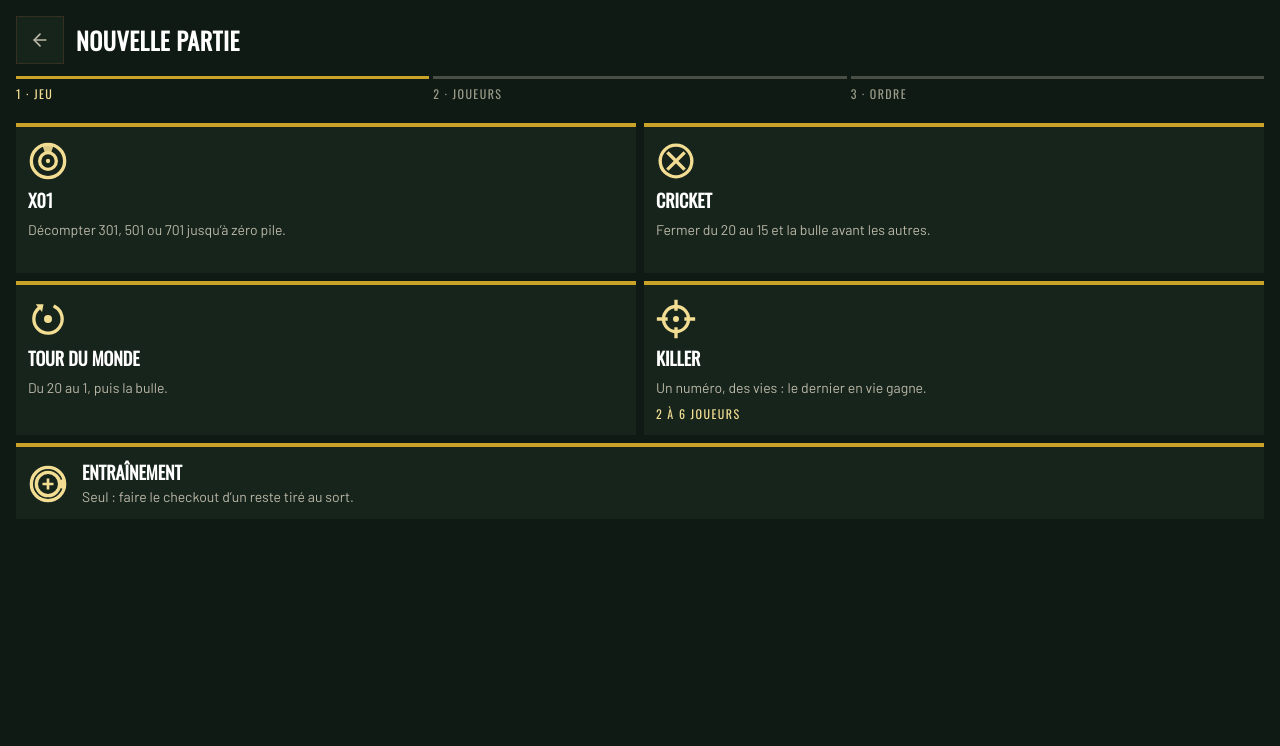
it: Killer — la sélection coupée au changement de jeu › un Killer à 6 puis un X01 : les 5e et 6e sont perdus, même en revenant au Killer
This screenshot has width=1280, height=746.
Click the 4th link named "Killer": (676, 319) top-left (644, 281), bottom-right (1264, 435)
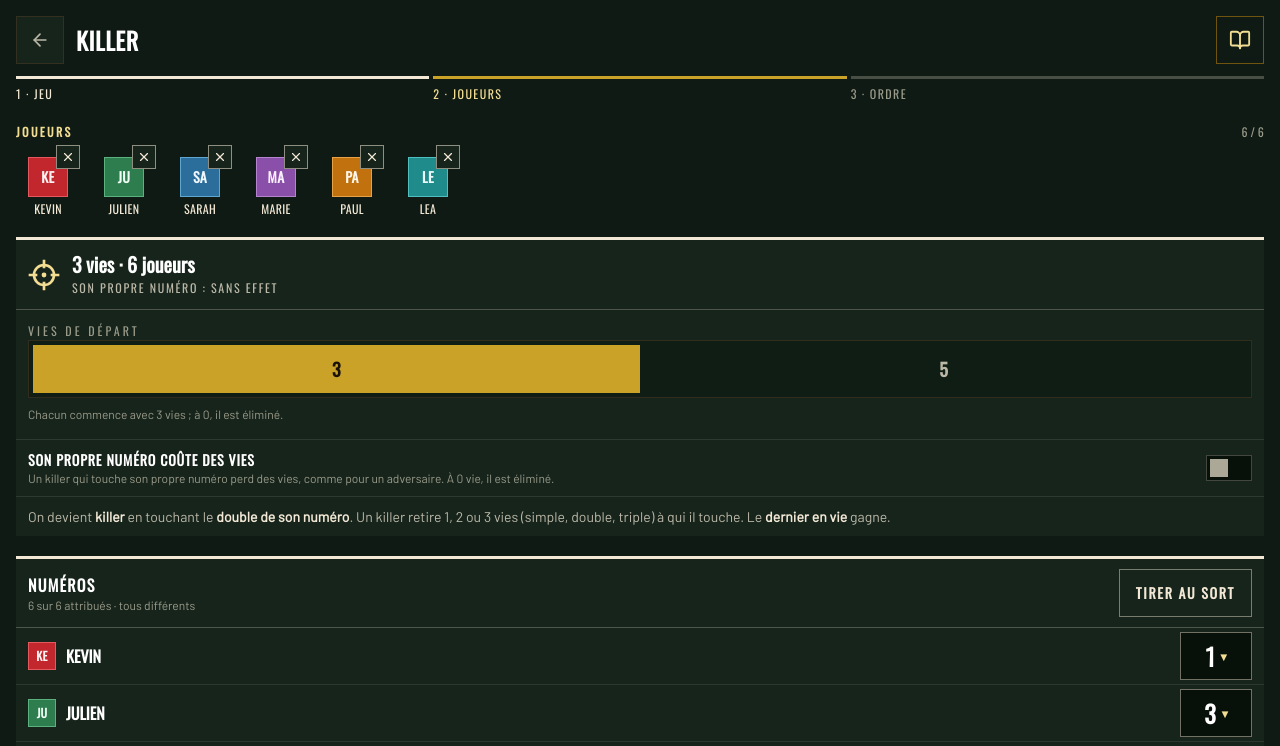
Check: the text "6 / 6" is shown, box top-left (1241, 124), bottom-right (1264, 140)
Click the button named "Étape précédente": (40, 40) top-left (16, 16), bottom-right (64, 64)
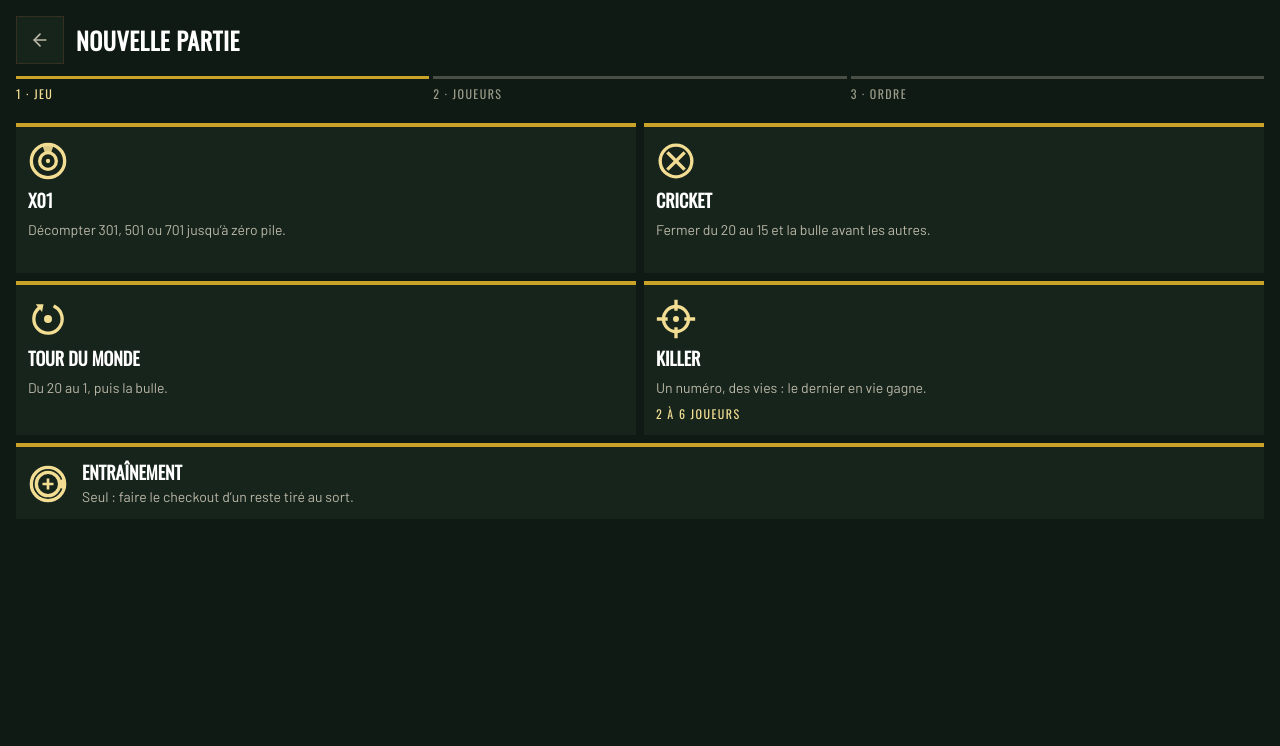
Click the 1st link named "X01": (48, 161) top-left (16, 123), bottom-right (636, 273)
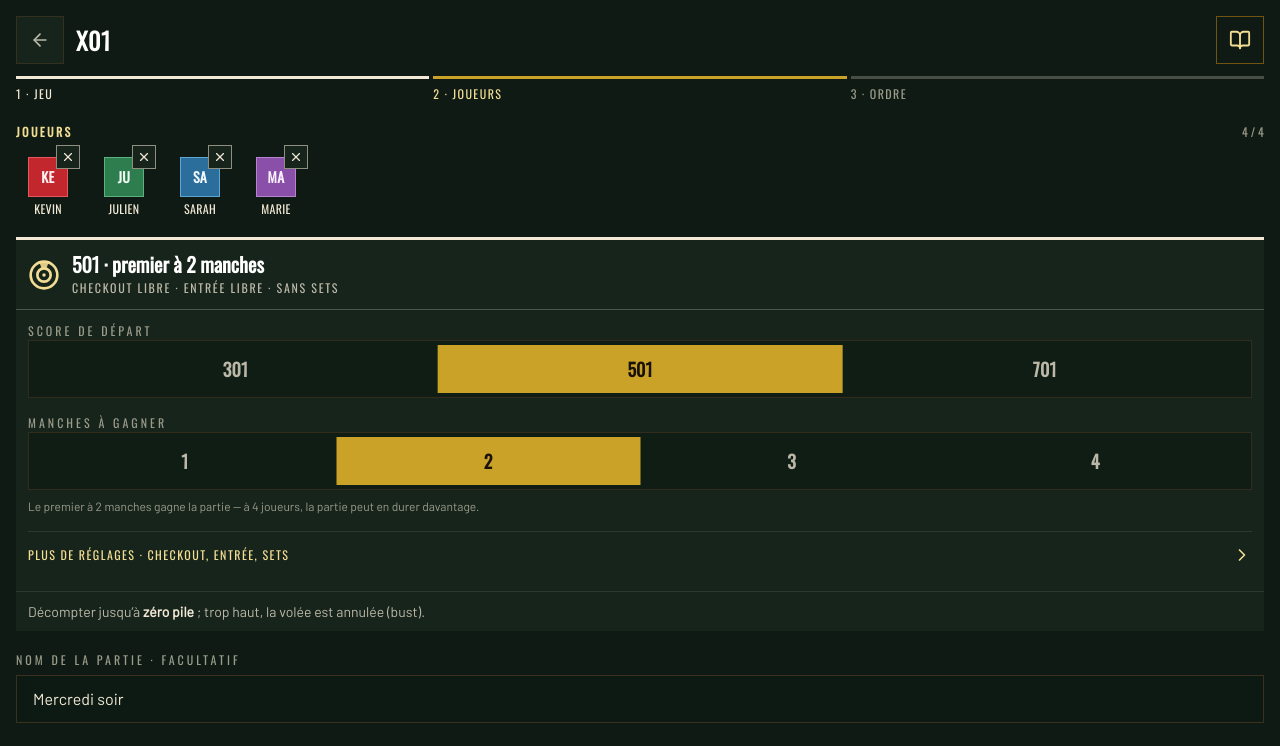
Check: the text "4 / 4" is shown, box top-left (1242, 124), bottom-right (1264, 140)
Click the button named "Étape précédente": (40, 40) top-left (16, 16), bottom-right (64, 64)
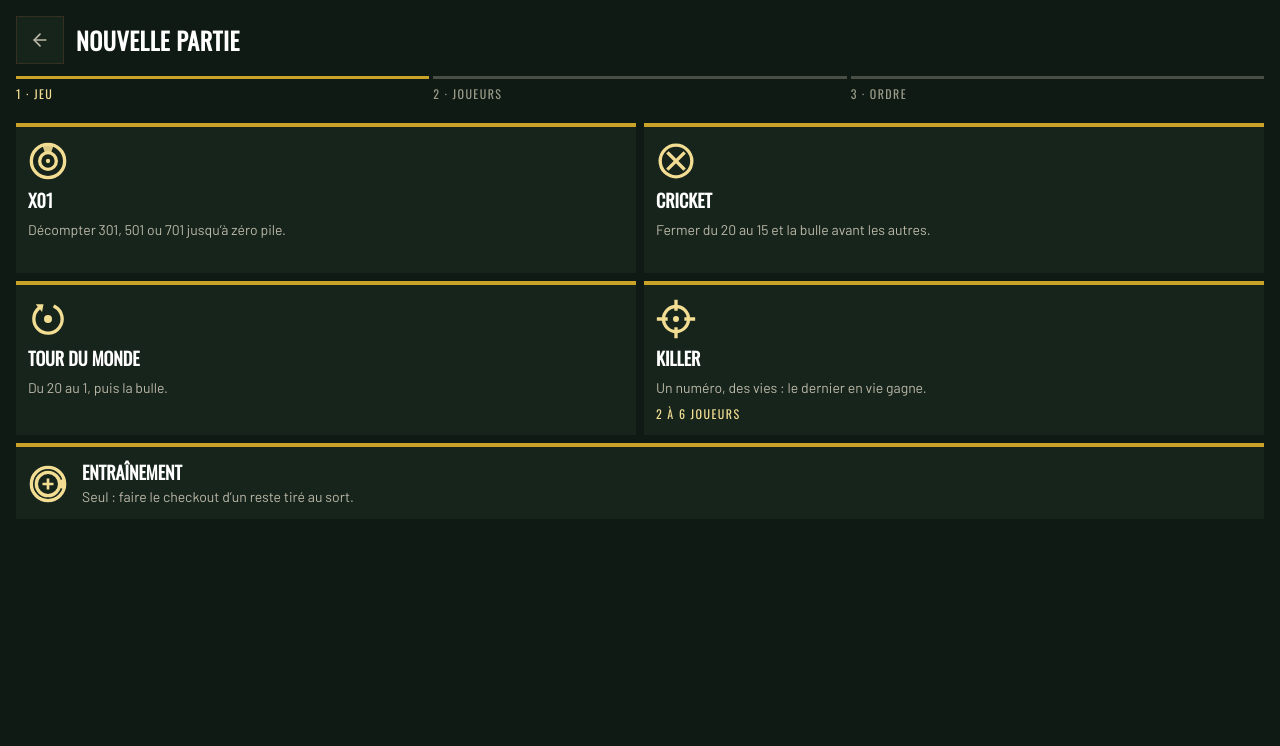
Click the 4th link named "Killer": (676, 319) top-left (644, 281), bottom-right (1264, 435)
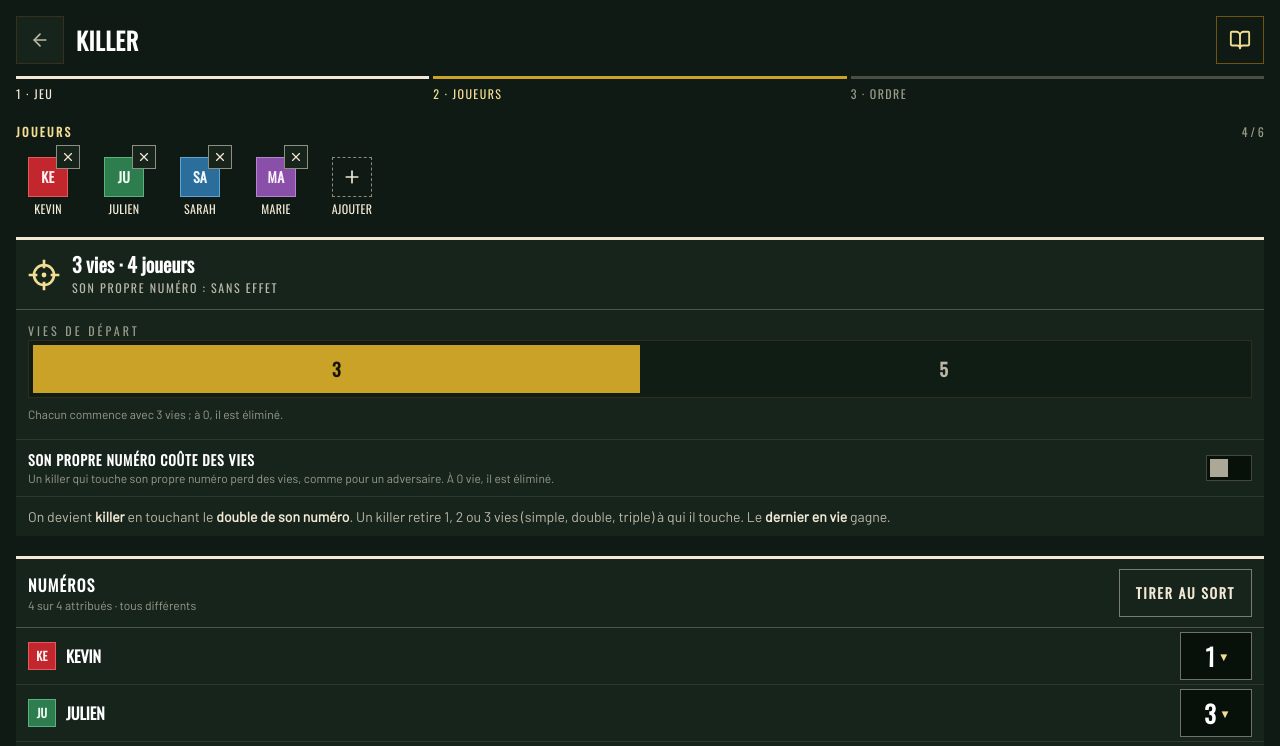
Check: the text "4 / 6" is shown, box top-left (1242, 124), bottom-right (1264, 140)
